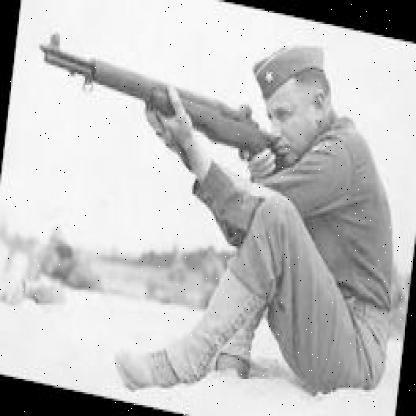rifle: (26, 21, 298, 188)
